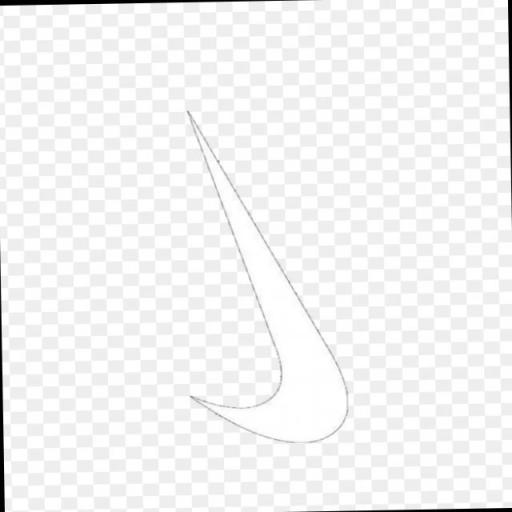Nike: (180, 106, 352, 444)
